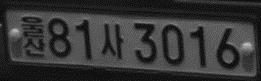0: (160, 23, 186, 66)
1: (188, 23, 208, 69), (74, 17, 93, 61)
3: (132, 20, 158, 64)
6: (215, 26, 241, 70)
8: (47, 16, 72, 57)
사: (99, 21, 125, 60)
울산_V: (20, 14, 46, 59)
